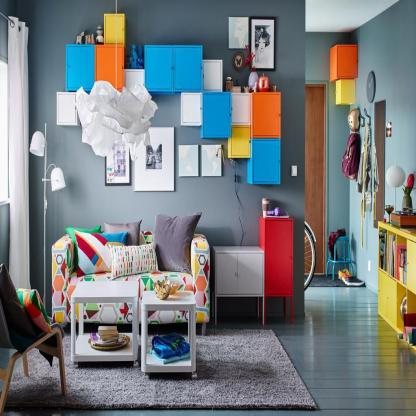Sofa: (51, 221, 213, 336)
